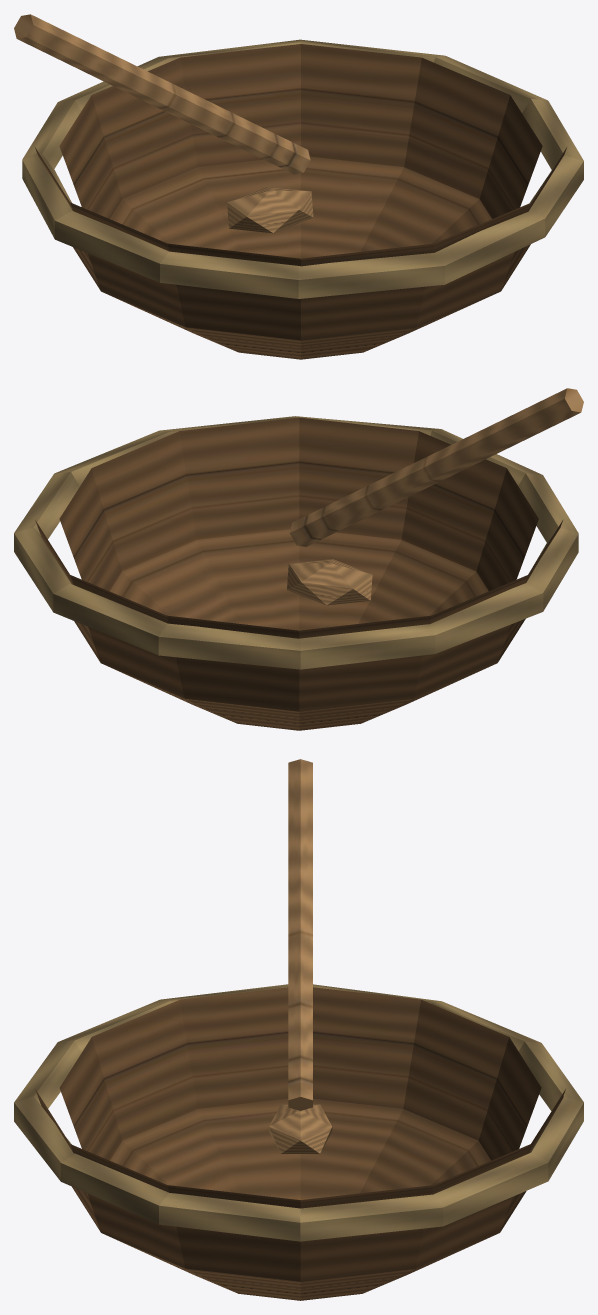
Rendered from prop_kom_red.glb.
The picture shows the model from 3 angles, top to bottom: view 1: azimuth 30°, elevation 25°; view 2: azimuth 150°, elevation 25°; view 3: azimuth 270°, elevation 25°; orthographic projection.
Parts seen in each view (by area): view 1: prop_kom_red; view 2: prop_kom_red; view 3: prop_kom_red.
Boxes of the visible parts, box(x1,y1,x2,y2) form: prop_kom_red: box(14, 14, 583, 359); prop_kom_red: box(14, 388, 583, 730); prop_kom_red: box(14, 759, 583, 1300).
Bounding box in the file's own units: 0.3454 × 0.2227 × 0.3216.
Materials: 1 (1 with a texture image).
